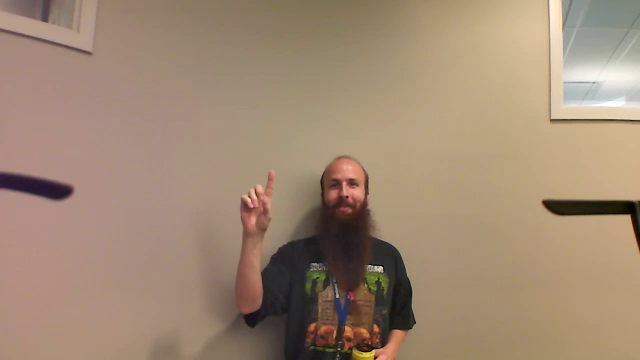up: (232, 167, 282, 241)
